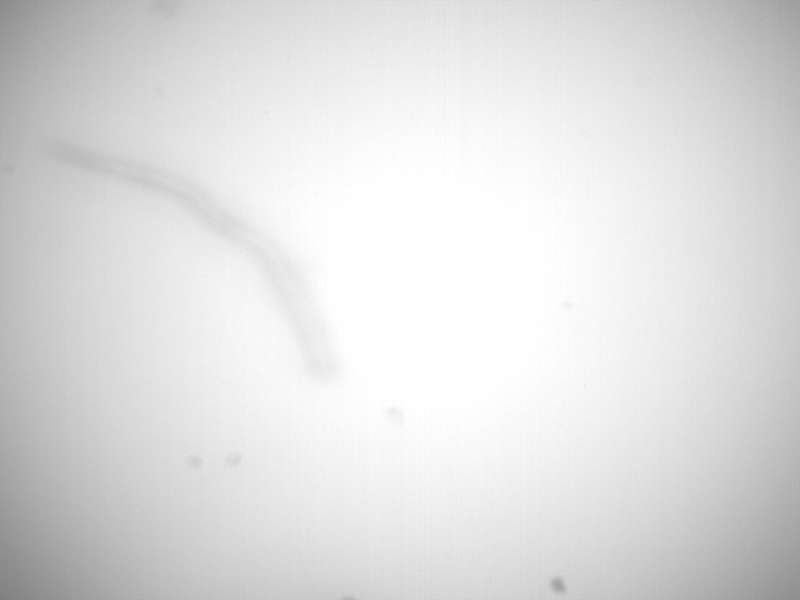fiber: (25, 131, 339, 396)
